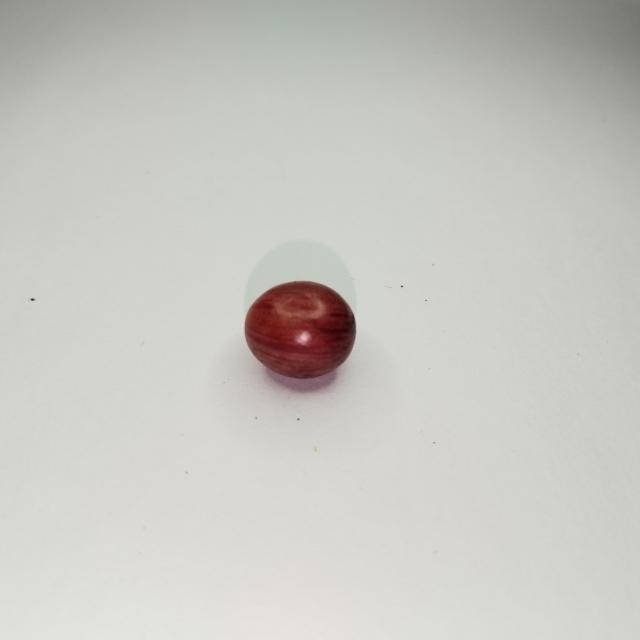Sano: (244, 282, 356, 383)
